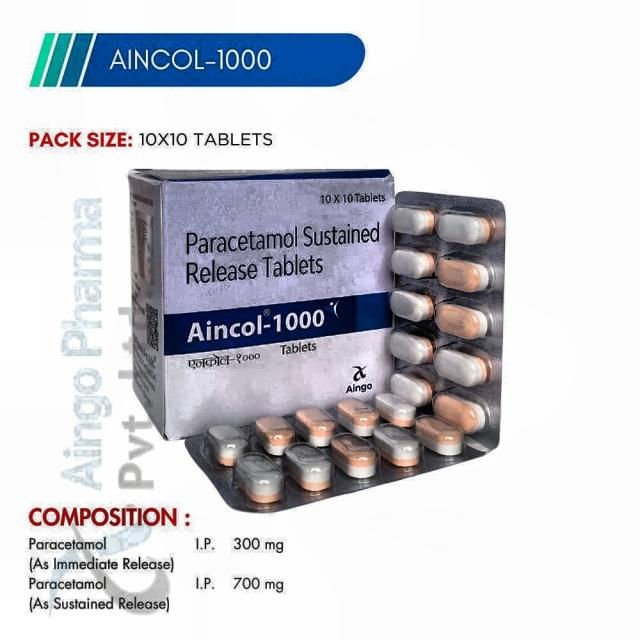Paracetamol: (168, 216, 386, 294)
